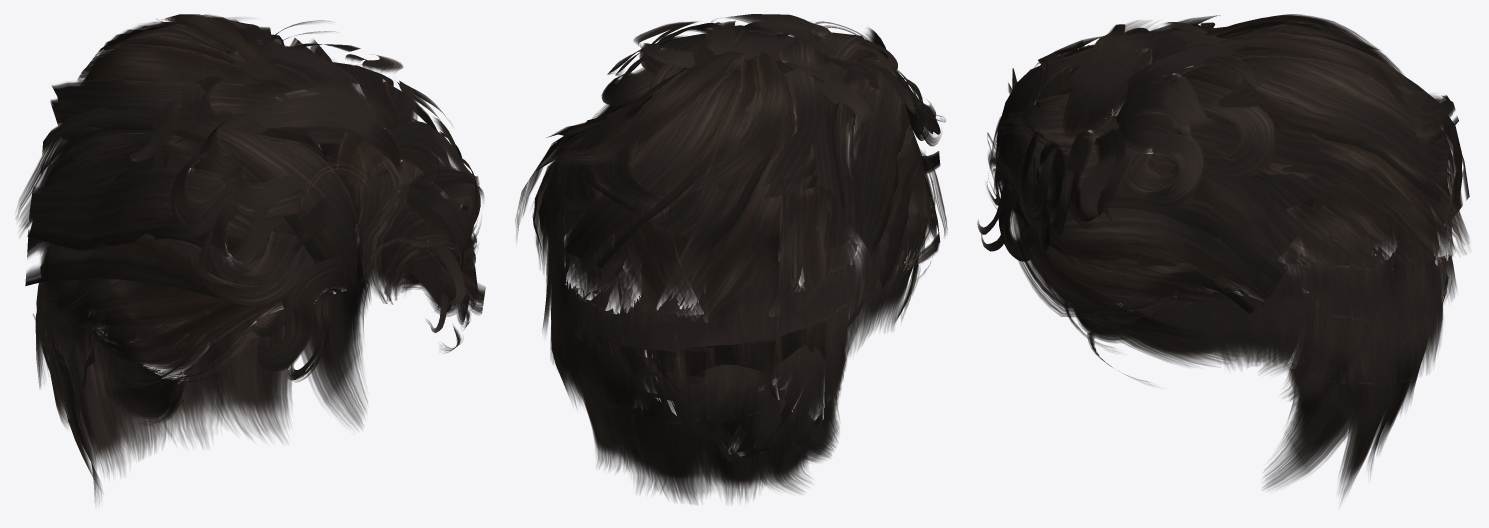
File: triangle-sidepart.glb
3 views of the same model, side by side, from view 1: azimuth 30°, elevation 25°; view 2: azimuth 150°, elevation 25°; view 3: azimuth 270°, elevation 25° (orthographic). The views are drawn at different scales.
Visible parts, largest first — view 1: TRIANGLE - CURLY - SIDE PART.011, SIDE PART.004; view 2: TRIANGLE - CURLY - SIDE PART.011, SIDE PART.004; view 3: TRIANGLE - CURLY - SIDE PART.011, SIDE PART.004.
Boxes of the visible parts, x1,y1,x2,y2 form: TRIANGLE - CURLY - SIDE PART.011: (15,14,485,503); SIDE PART.004: (129,20,484,382); TRIANGLE - CURLY - SIDE PART.011: (515,32,947,504); SIDE PART.004: (601,14,945,173); TRIANGLE - CURLY - SIDE PART.011: (987,14,1469,503); SIDE PART.004: (977,15,1292,261).
Bounding box in the file's own units: 0.2093 × 0.2485 × 0.256.
1 material, 1 textured.
